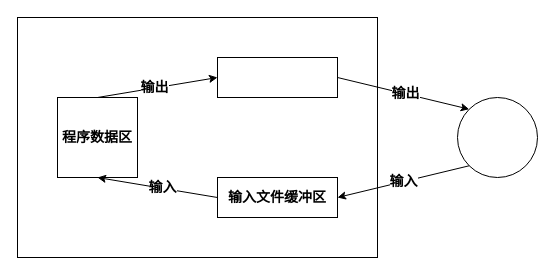
This 555x275 diagram has some shape labels left out. The shapes that lost their labels are listed below. From the top down, each one's centre as x and y in pixels, then its label:
pixel 277 77: 输出文件缓冲区
pixel 497 137: 磁盘
